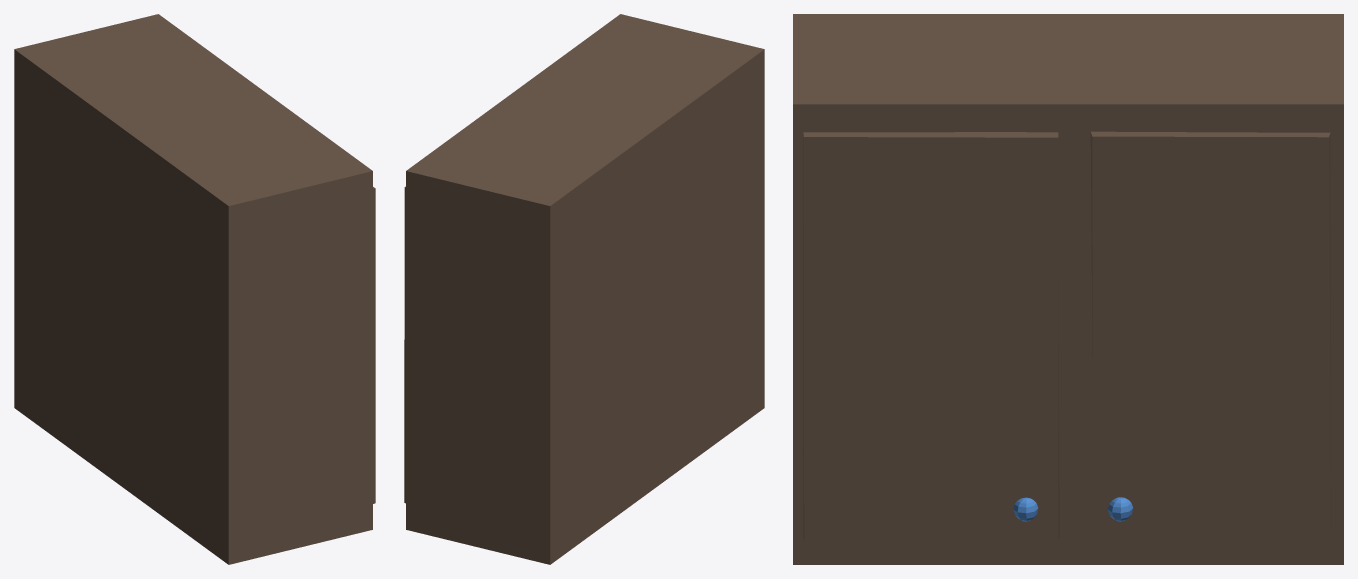
File: Kitchen_2_Cabinet_5.fbx
The picture shows the model from 3 angles, left to right: view 1: azimuth 30°, elevation 25°; view 2: azimuth 150°, elevation 25°; view 3: azimuth 270°, elevation 25°; orthographic projection. The views are drawn at different scales.
Visible parts, largest first — view 1: Kitchen_2_Cabinet_5; view 2: Kitchen_2_Cabinet_5; view 3: Kitchen_2_Cabinet_5.
Part boxes in pixels (x1,y1,x2,y2): Kitchen_2_Cabinet_5: [14, 14, 375, 564]; Kitchen_2_Cabinet_5: [404, 14, 764, 564]; Kitchen_2_Cabinet_5: [793, 14, 1343, 564].
Size of the model in its own units: 51.71 by 112 by 121.
